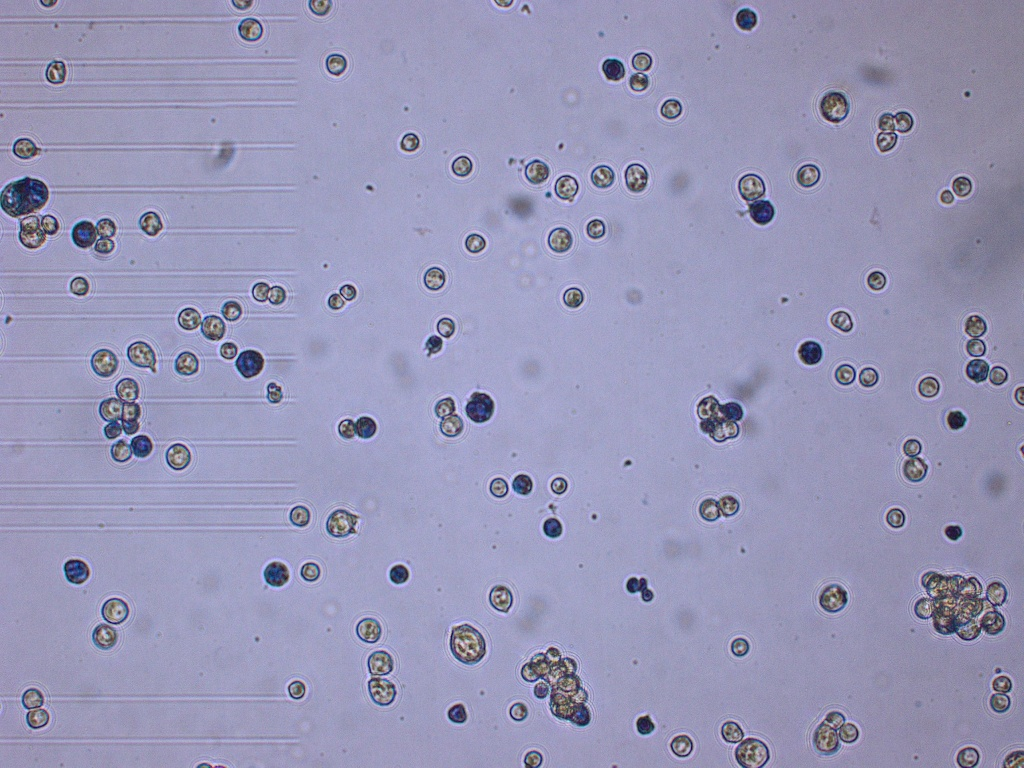Aggregate: (521, 645, 590, 722), (923, 572, 986, 642)
dead: (1, 178, 49, 216), (466, 392, 494, 422), (235, 350, 265, 378), (64, 558, 90, 583), (73, 221, 95, 248), (749, 200, 773, 224), (265, 561, 289, 585), (799, 341, 823, 364), (965, 359, 989, 382), (736, 7, 758, 30), (602, 59, 625, 81), (132, 434, 153, 458), (722, 401, 743, 422), (512, 474, 533, 494), (356, 415, 375, 437), (543, 518, 563, 537), (635, 714, 653, 735), (947, 410, 966, 429), (448, 703, 467, 722), (103, 421, 122, 440), (390, 564, 408, 584), (424, 334, 441, 355), (533, 681, 550, 698), (946, 525, 960, 542), (125, 419, 139, 434), (626, 577, 637, 591)
live: (449, 623, 485, 664), (736, 737, 768, 767), (128, 342, 159, 372), (326, 508, 358, 537), (820, 92, 849, 123), (367, 676, 397, 705), (819, 584, 847, 612), (91, 348, 118, 377), (738, 174, 765, 200), (625, 162, 647, 192), (102, 599, 129, 623), (815, 724, 837, 753), (166, 444, 191, 469), (93, 624, 118, 649), (357, 617, 382, 642), (490, 584, 512, 612), (549, 227, 573, 252), (591, 164, 615, 189), (902, 458, 927, 482), (139, 211, 163, 235), (525, 159, 548, 184), (202, 314, 225, 339), (116, 377, 139, 402), (99, 396, 122, 421), (240, 17, 263, 41), (555, 174, 576, 200), (177, 306, 200, 329), (798, 165, 820, 189), (369, 651, 393, 673), (12, 138, 38, 158), (175, 353, 198, 375), (698, 396, 719, 420), (289, 504, 311, 526), (670, 735, 692, 757), (831, 311, 853, 333), (957, 746, 979, 768), (423, 269, 446, 290), (441, 414, 462, 437), (833, 364, 856, 385), (965, 313, 988, 334), (325, 53, 347, 74), (46, 61, 67, 83), (24, 687, 44, 710), (721, 720, 744, 740), (987, 582, 1006, 606), (465, 232, 486, 253), (660, 99, 681, 120), (914, 597, 935, 618), (112, 441, 132, 463), (452, 155, 472, 176), (719, 494, 739, 515), (918, 376, 939, 396), (700, 498, 719, 520), (630, 73, 650, 93), (877, 132, 897, 152), (564, 287, 583, 308), (27, 709, 49, 727), (587, 218, 606, 238), (952, 175, 971, 195), (41, 214, 60, 234), (301, 561, 320, 581), (222, 299, 240, 320), (991, 692, 1009, 713), (1003, 750, 1024, 768), (307, 1, 332, 16), (839, 723, 859, 741), (896, 111, 912, 133), (400, 133, 419, 151), (868, 270, 886, 289), (510, 701, 528, 720), (860, 366, 878, 385), (824, 710, 844, 727), (632, 52, 650, 70), (887, 508, 905, 526), (903, 437, 921, 455), (437, 316, 454, 335), (71, 278, 90, 295), (97, 217, 114, 236), (489, 479, 508, 496), (878, 111, 895, 130), (270, 286, 287, 304), (289, 680, 306, 698), (732, 636, 749, 654), (991, 364, 1006, 384), (252, 282, 269, 299), (967, 338, 984, 355), (96, 237, 114, 253), (525, 749, 541, 766), (994, 676, 1011, 692), (221, 342, 237, 358), (328, 293, 344, 309), (437, 397, 452, 414), (124, 402, 139, 418), (552, 477, 567, 493), (340, 418, 353, 436), (940, 189, 955, 203), (341, 283, 355, 297), (1015, 385, 1024, 406), (233, 1, 252, 10)
